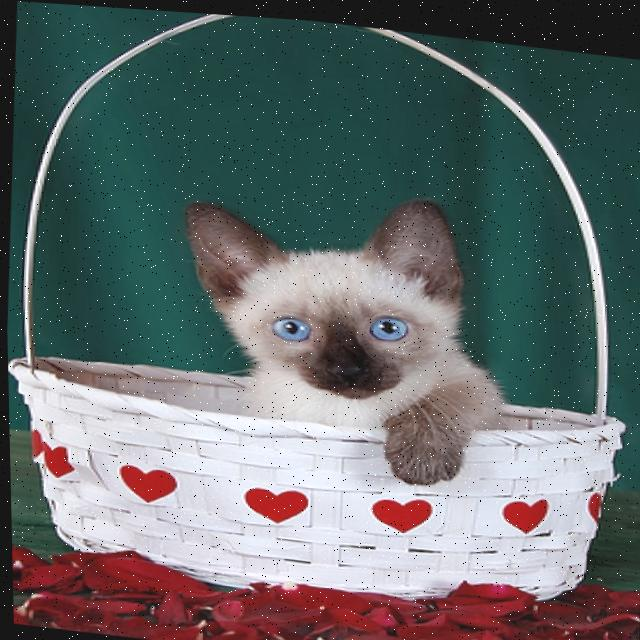Siamese: (155, 162, 517, 490)
